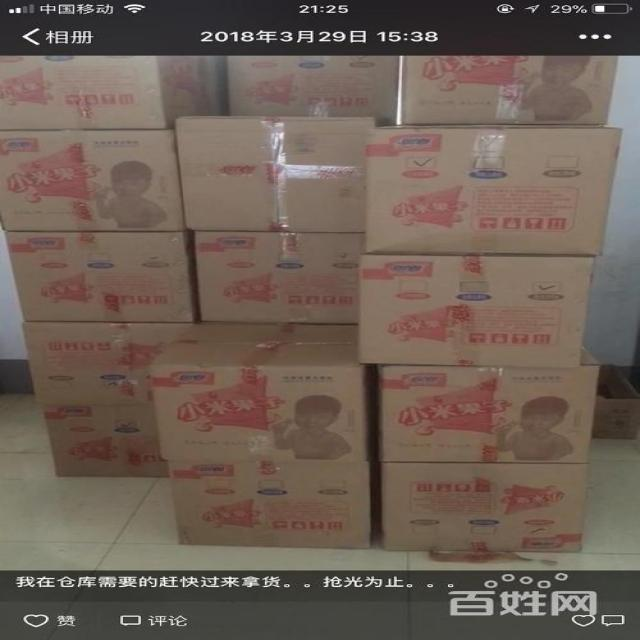box: (366, 126, 622, 255), (149, 323, 381, 462), (359, 254, 595, 366), (378, 344, 601, 462), (177, 116, 376, 232), (168, 452, 381, 547), (0, 128, 185, 231), (379, 462, 588, 552), (3, 229, 202, 323), (0, 54, 228, 130), (194, 231, 366, 324), (398, 55, 619, 127), (22, 321, 193, 404), (218, 55, 399, 126), (43, 403, 169, 477), (194, 320, 359, 324)
